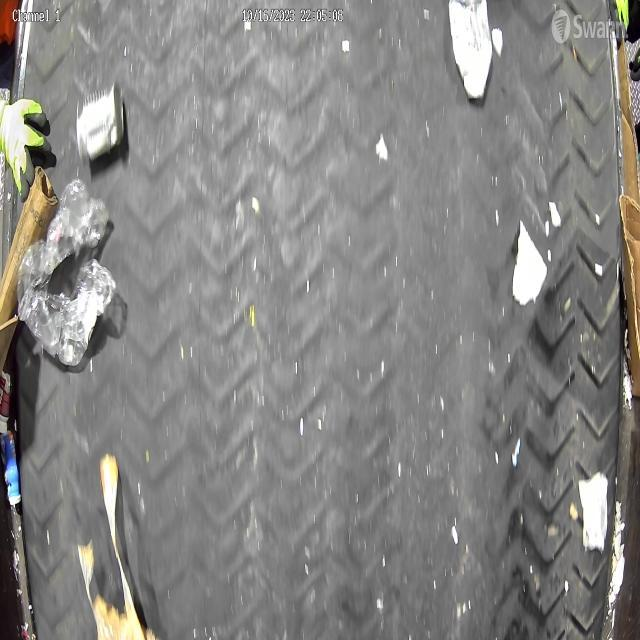can: (74, 83, 136, 167)
